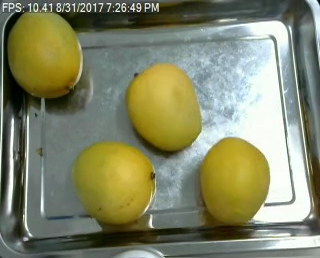Mango: (70, 142, 155, 226), (7, 7, 84, 97), (128, 61, 203, 152), (201, 134, 272, 225)
